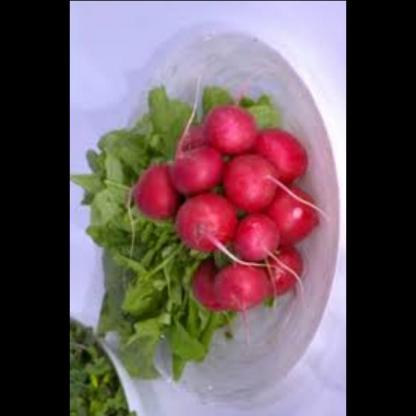rediska: (264, 179, 318, 247), (174, 196, 235, 256), (212, 258, 268, 318), (221, 155, 273, 214), (132, 162, 182, 223), (166, 142, 222, 196), (255, 130, 309, 184), (204, 107, 258, 157), (232, 212, 281, 266), (262, 247, 303, 295), (188, 260, 221, 308)
